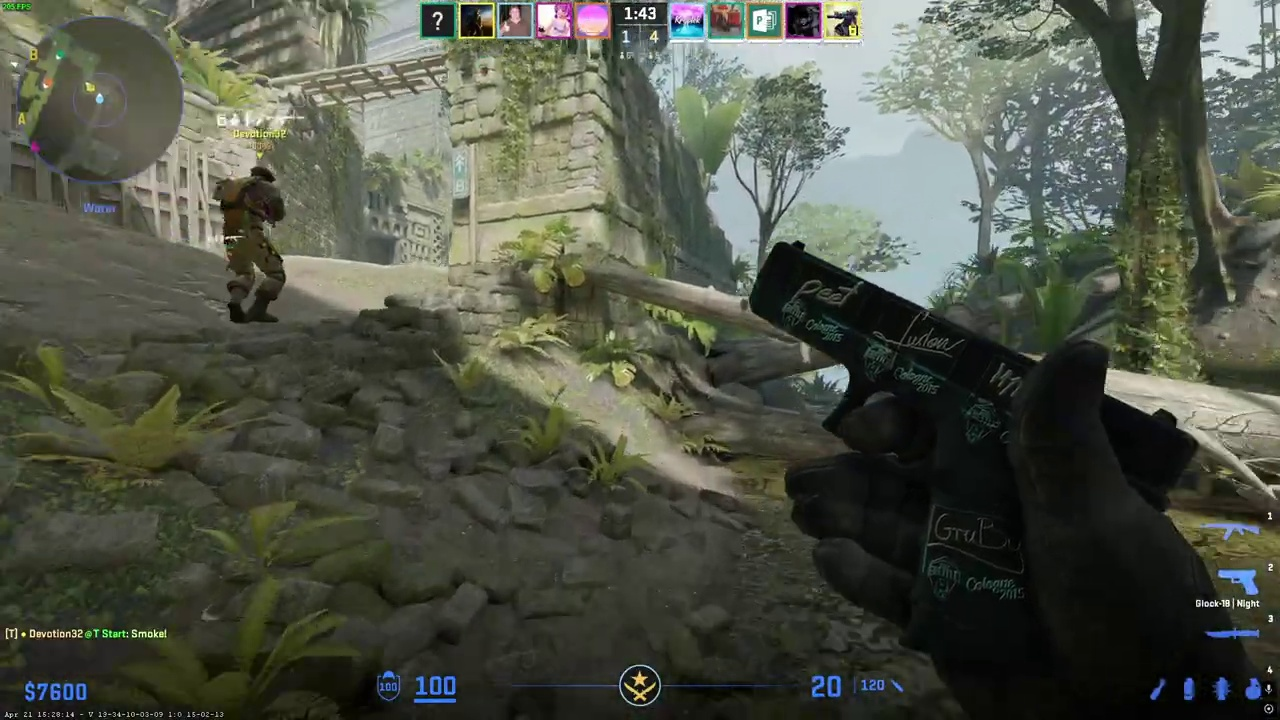Terrorist: (220, 166, 287, 324)
